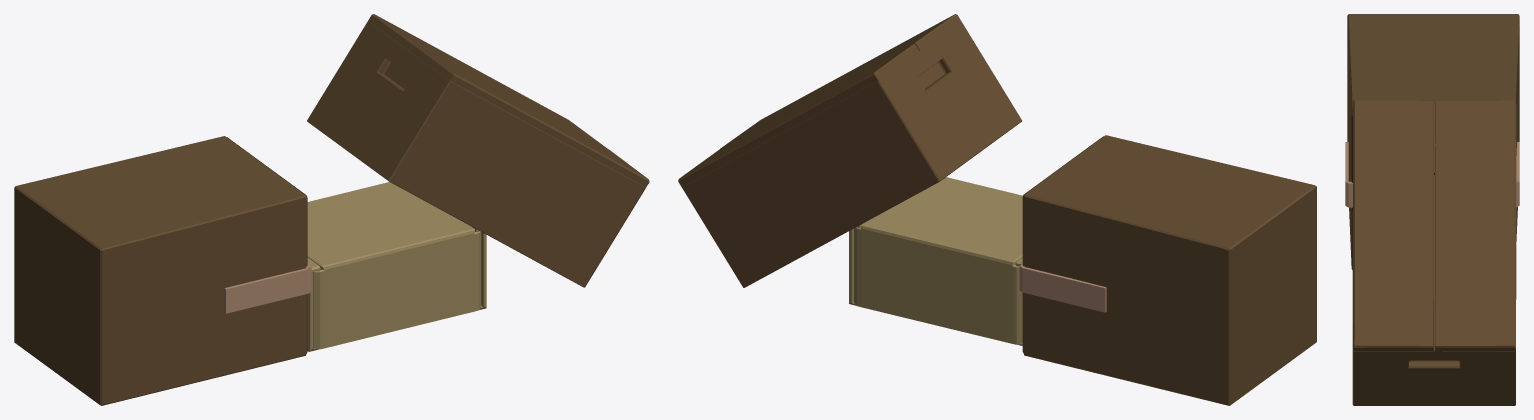
File: Boxes2.fbx
The picture shows the model from 3 angles, left to right: view 1: azimuth 30°, elevation 25°; view 2: azimuth 150°, elevation 25°; view 3: azimuth 270°, elevation 25°; orthographic projection.
Visible parts, largest first — view 1: Cube.024; view 2: Cube.024; view 3: Cube.024.
Part boxes in pixels (<box>): Cube.024: <box>14,14,649,405</box>; Cube.024: <box>678,14,1316,405</box>; Cube.024: <box>1345,14,1519,405</box>.
Bounding box in the file's own units: 406 × 173 × 112.
